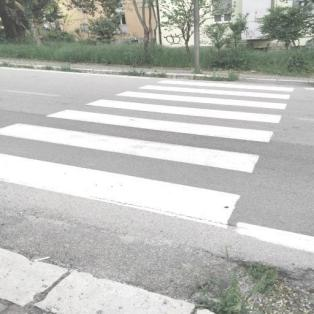Paso de Cebra: (40, 97, 286, 146)
